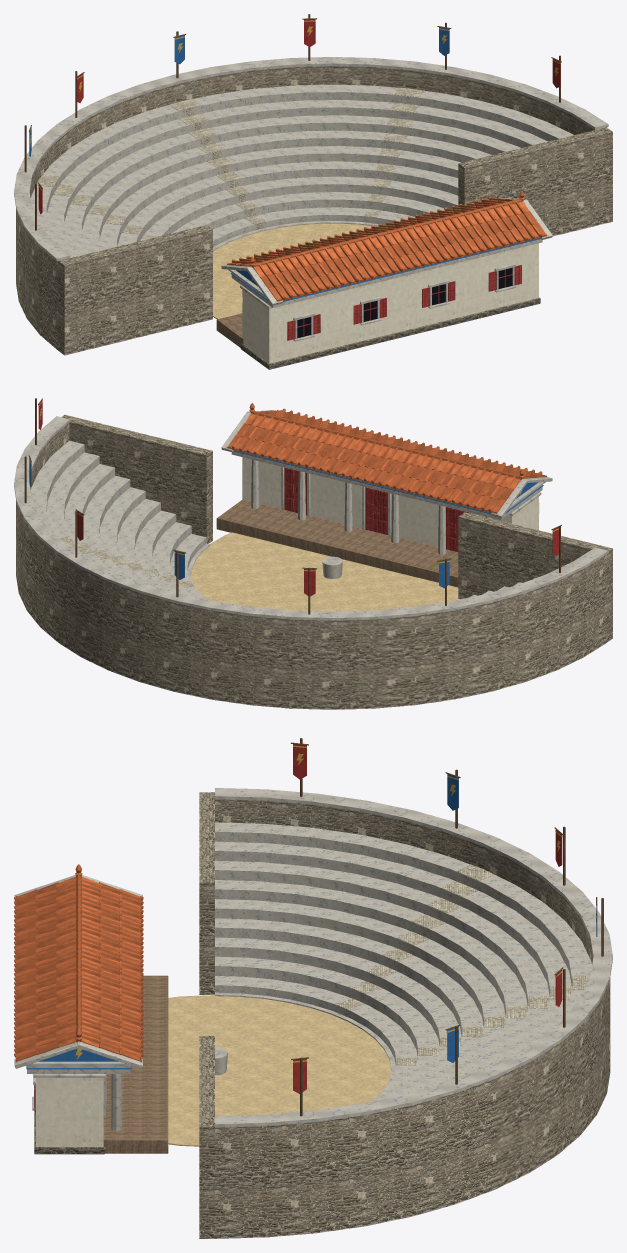
Rendered from civic_amphitheatre.glb.
3 renders of one model, top to bottom at view 1: azimuth 30°, elevation 25°; view 2: azimuth 150°, elevation 25°; view 3: azimuth 270°, elevation 25°, orthographic. The views are drawn at different scales.
Parts seen in each view (by area): view 1: step, stone, cream, marble, terracotta1, terracotta0, paving, terracotta2, sand, stone_dark, red_wood, dark (+6 smaller); view 2: stone, marble, step, sand, wood, terracotta1, cream, terracotta0, terracotta2, red_wood, wood_dark, paving (+4 smaller); view 3: step, stone, sand, marble, terracotta1, terracotta0, terracotta2, wood, cream, paving, cloth_red, wood_dark (+3 smaller).
Boxes of the visible parts, x1=… form: step: x1=30, y1=84, x2=573, y2=257; stone: x1=16, y1=66, x2=612, y2=355; cream: x1=242, y1=243, x2=538, y2=363; marble: x1=14, y1=57, x2=608, y2=341; terracotta1: x1=227, y1=198, x2=546, y2=300; terracotta0: x1=227, y1=198, x2=546, y2=301; paving: x1=37, y1=87, x2=424, y2=240; terracotta2: x1=235, y1=197, x2=542, y2=296; sand: x1=213, y1=223, x2=377, y2=319; stone_dark: x1=240, y1=297, x2=540, y2=369; red_wood: x1=287, y1=265, x2=521, y2=340; dark: x1=297, y1=268, x2=512, y2=338; stone: x1=16, y1=415, x2=612, y2=709; marble: x1=14, y1=410, x2=608, y2=620; step: x1=30, y1=440, x2=535, y2=599; sand: x1=191, y1=532, x2=458, y2=611; wood: x1=216, y1=499, x2=458, y2=587; terracotta1: x1=227, y1=410, x2=546, y2=513; cream: x1=242, y1=457, x2=539, y2=546; terracotta0: x1=227, y1=410, x2=546, y2=513; terracotta2: x1=232, y1=410, x2=538, y2=508; red_wood: x1=284, y1=467, x2=468, y2=551; wood_dark: x1=24, y1=398, x2=561, y2=614; paving: x1=51, y1=530, x2=193, y2=587; step: x1=215, y1=822, x2=591, y2=1101; stone: x1=199, y1=792, x2=610, y2=1238; sand: x1=168, y1=995, x2=390, y2=1146; marble: x1=14, y1=788, x2=612, y2=1130; terracotta1: x1=15, y1=875, x2=142, y2=1061; terracotta0: x1=15, y1=882, x2=142, y2=1061; terracotta2: x1=15, y1=876, x2=142, y2=1057; wood: x1=103, y1=975, x2=168, y2=1153; cream: x1=36, y1=1078, x2=103, y2=1146; paving: x1=337, y1=864, x2=590, y2=1065; cloth_red: x1=293, y1=744, x2=562, y2=1093; wood_dark: x1=291, y1=738, x2=603, y2=1116.
Size of the model in its own units: 30.7 by 7.39 by 23.1.
Materials: 20 (18 with a texture image).
